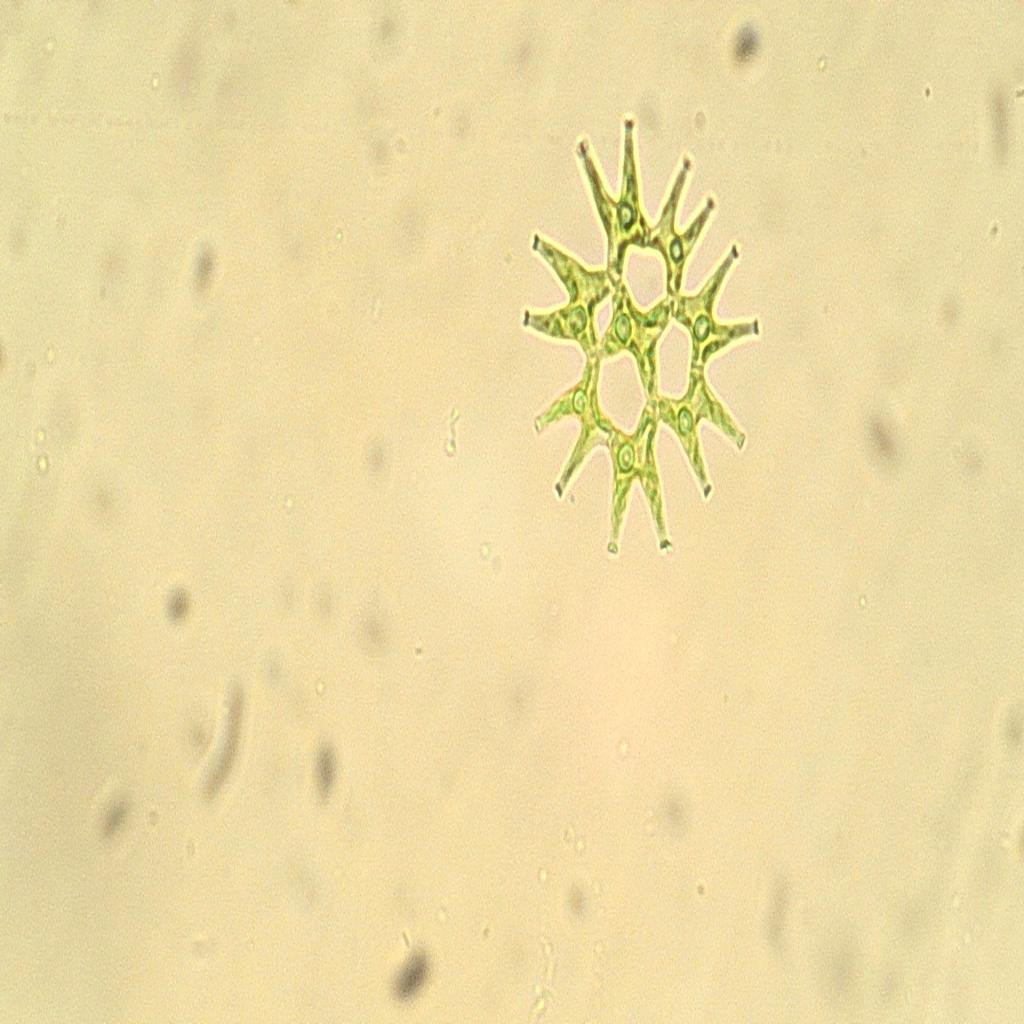Pediastrum_CTH: (512, 86, 766, 575)
